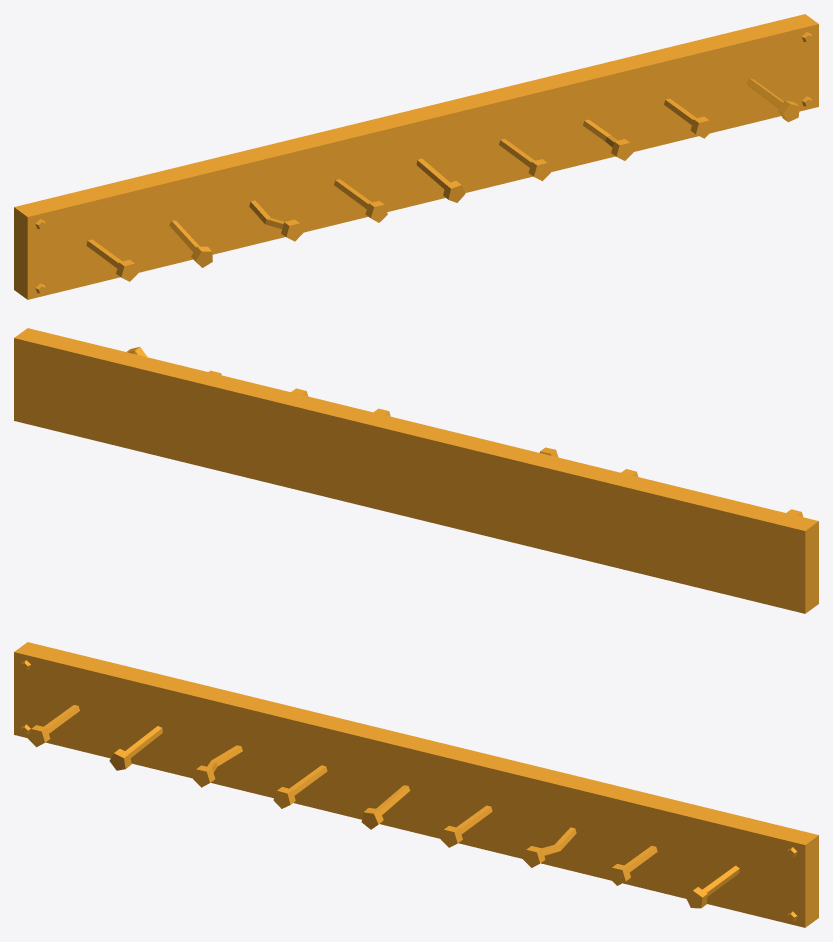
Rendered from SM_Toolrack_A.fbx.
3 renders of one model, top to bottom at view 1: azimuth 30°, elevation 25°; view 2: azimuth 150°, elevation 25°; view 3: azimuth 330°, elevation 25°, orthographic.
Visible parts, largest first — view 1: toolrack-a; view 2: toolrack-a; view 3: toolrack-a.
Boxes of the visible parts, x1,y1,x2,y2 form: toolrack-a: [14, 14, 818, 299]; toolrack-a: [14, 328, 818, 613]; toolrack-a: [14, 642, 818, 927].
Bounding box in the file's own units: 1 × 0.1 × 0.1216.
